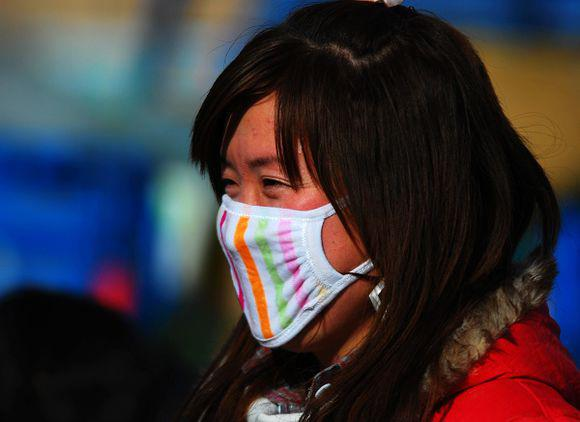OK: (208, 156, 397, 345)
